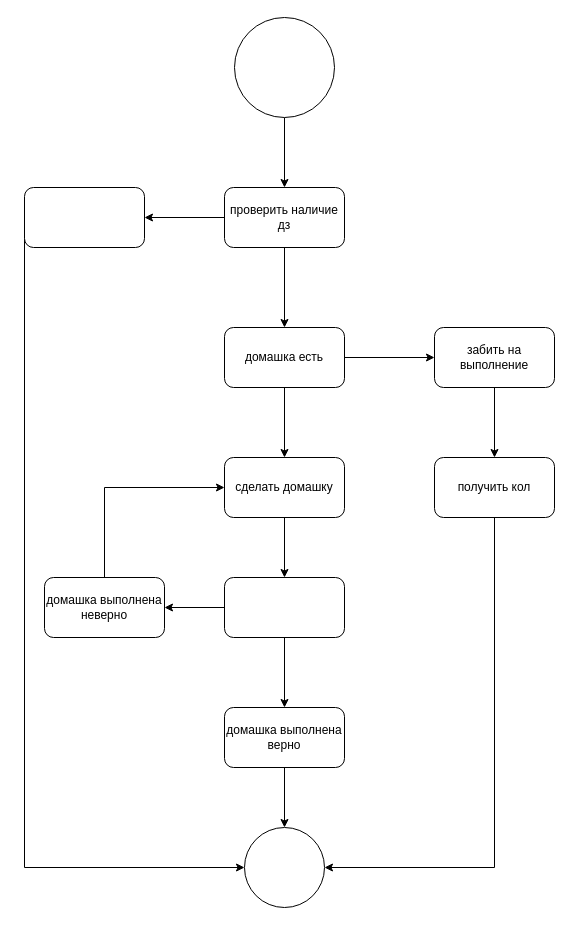
Image size: 572x925. Some labels were removed from this diagram. The shapes that lost their labels are listed below. From the top down, each one's centre as x and y in pixels, then its label:
point 284,67: зайти в раздел "домашнее задание"
point 84,217: домашки нет
point 284,607: залить на майстат
point 284,867: конец
